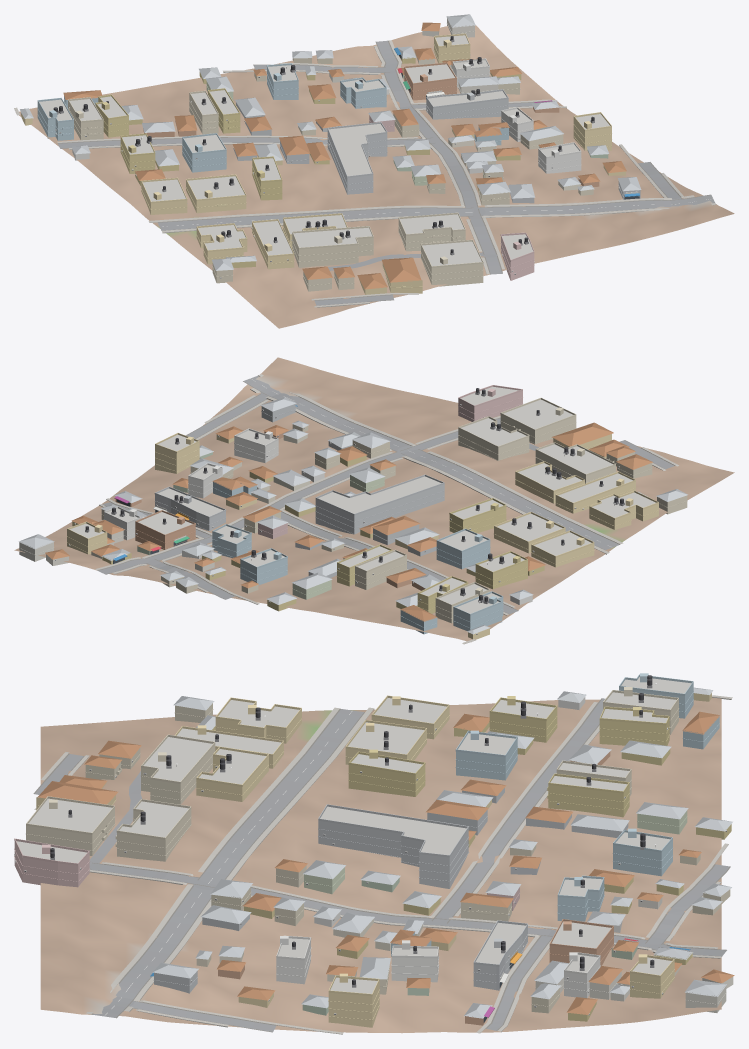
3 renders of one model, top to bottom at view 1: azimuth 30°, elevation 25°; view 2: azimuth 150°, elevation 25°; view 3: azimuth 270°, elevation 25°, orthographic. The views are drawn at different scales.
Visible parts, largest first — view 1: Buildings-col, Terrain-col, Details, Roads-col, Sidewalks-col; view 2: Buildings-col, Terrain-col, Details, Roads-col, Sidewalks-col; view 3: Buildings-col, Terrain-col, Roads-col, Details, Sidewalks-col.
Part boxes in pixels (bbox=[...]): Buildings-col: bbox=[20, 14, 641, 294]; Terrain-col: bbox=[19, 25, 734, 328]; Details: bbox=[21, 23, 640, 288]; Roads-col: bbox=[58, 40, 714, 305]; Sidewalks-col: bbox=[14, 40, 716, 307]; Buildings-col: bbox=[18, 386, 687, 639]; Terrain-col: bbox=[14, 357, 734, 642]; Details: bbox=[19, 385, 687, 634]; Roads-col: bbox=[97, 375, 674, 614]; Sidewalks-col: bbox=[95, 374, 678, 644]; Buildings-col: bbox=[14, 677, 734, 1027]; Terrain-col: bbox=[40, 697, 721, 1033]; Roads-col: bbox=[33, 698, 730, 1032]; Details: bbox=[14, 673, 726, 1022]; Sidewalks-col: bbox=[34, 695, 732, 1034].
Bounding box in the file's own units: 264 × 32.22 × 271.
